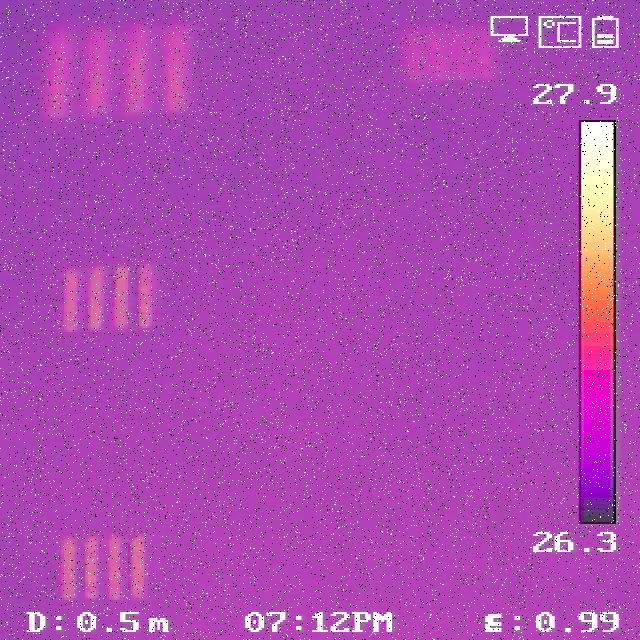Distinguishable 4-bar target: (40, 14, 196, 118), (59, 257, 160, 330), (58, 533, 158, 598)
threshold 4-bar target: (392, 18, 497, 81)
